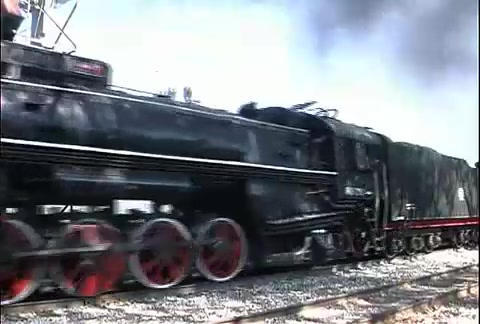train: (2, 2, 480, 298)
